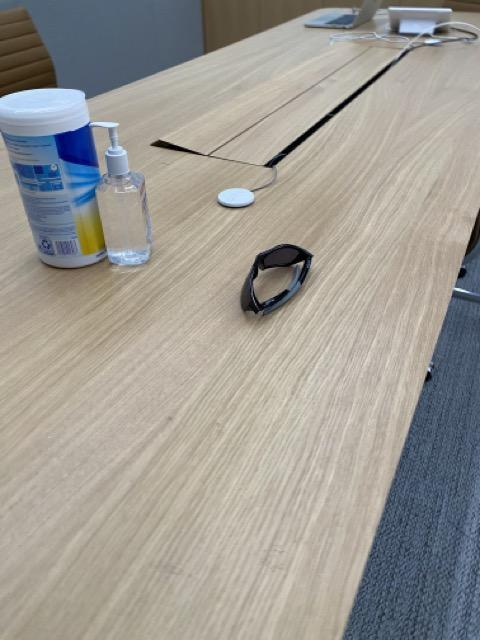Sunglasses: (239, 241, 317, 320)
